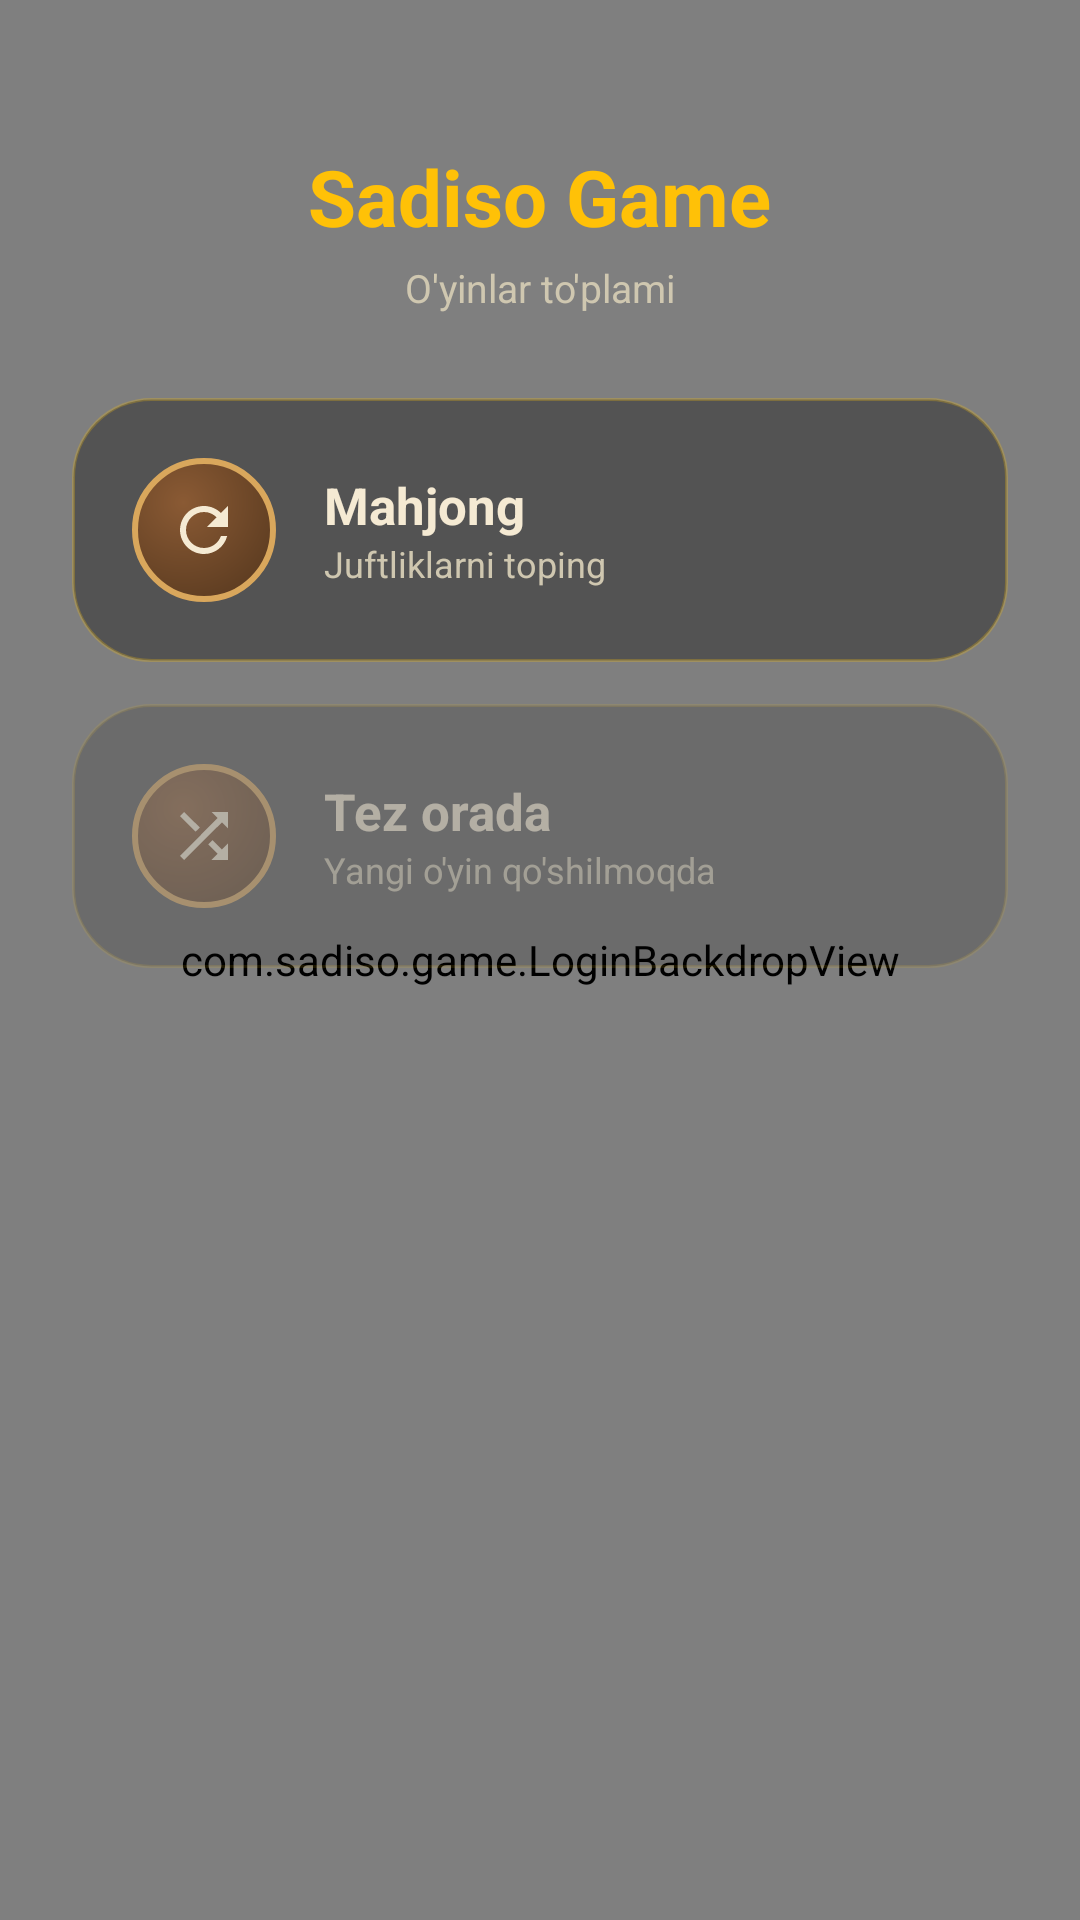

Where icons sit on this 1080×1920 app screen, as (x1, y1, x2, y2):
shuffle: (132, 764, 276, 908)
